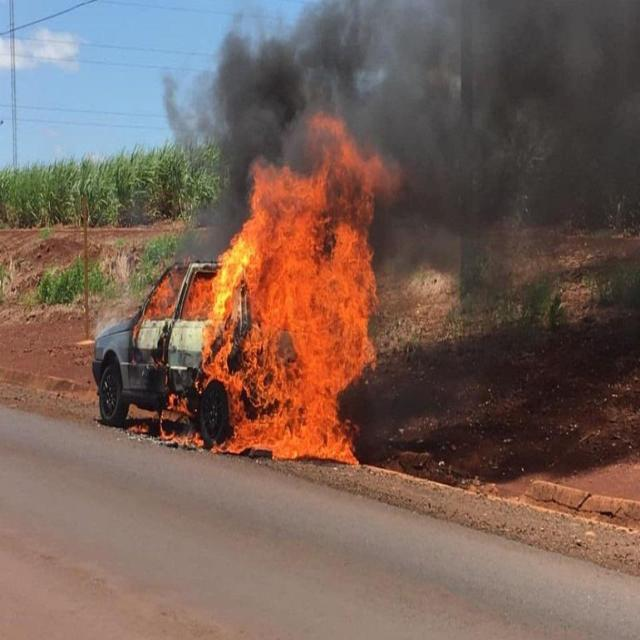Fire: (127, 112, 401, 466)
